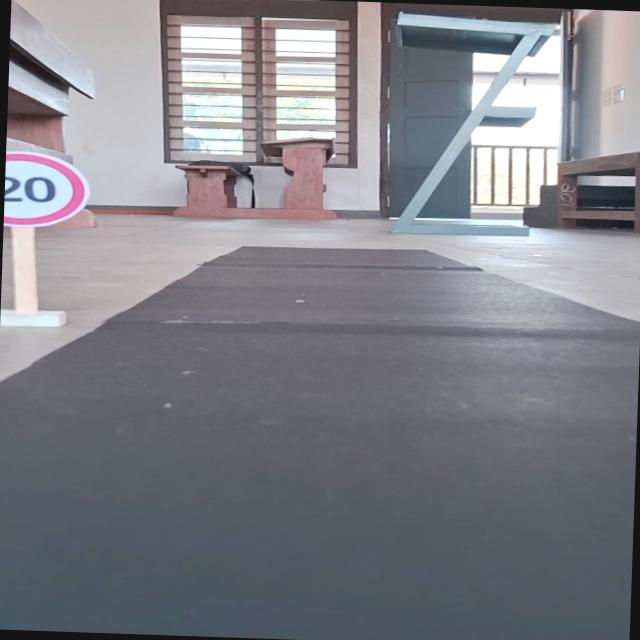Speed20: (3, 147, 96, 232)
